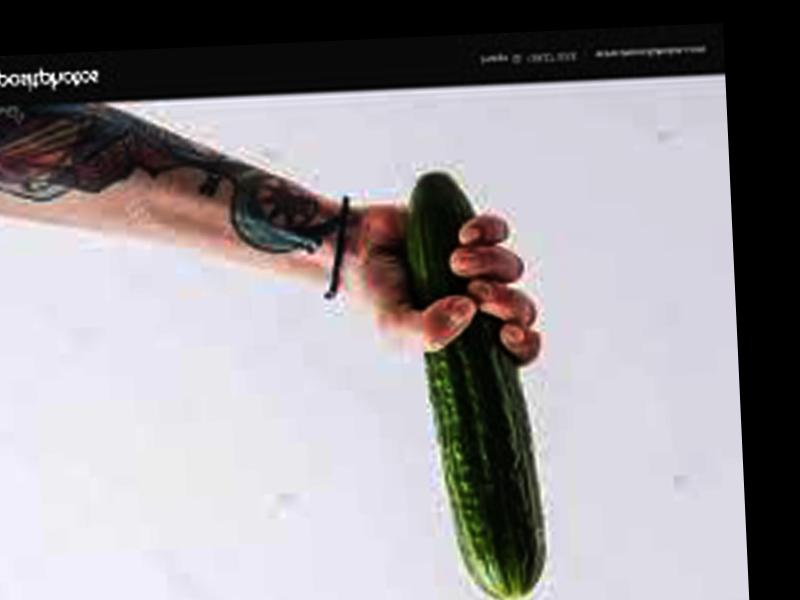Cucumber: (404, 172, 548, 600)
